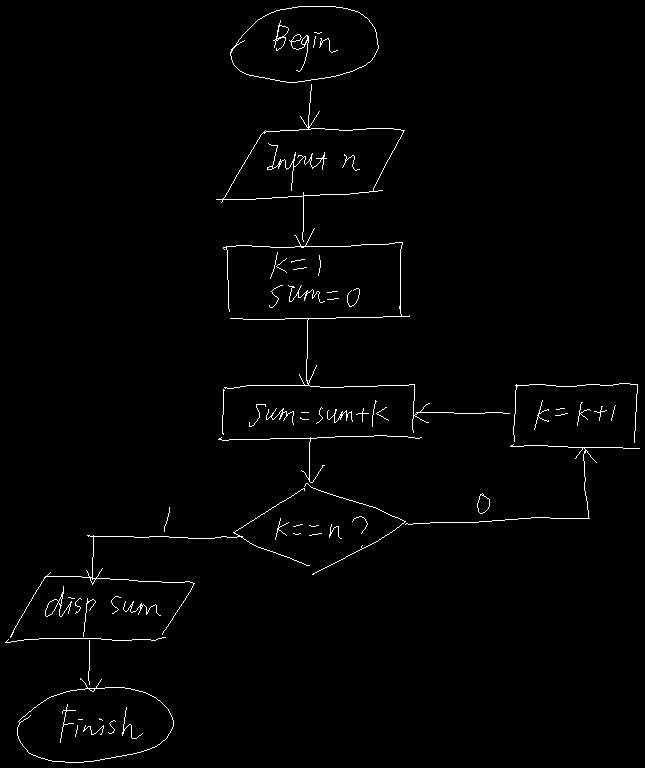arrow: (405, 447, 596, 524), (86, 535, 242, 584), (414, 403, 509, 422), (299, 319, 316, 385), (294, 192, 314, 247), (80, 640, 101, 691), (301, 437, 324, 482), (300, 84, 319, 128)
data: (216, 128, 404, 202), (5, 572, 194, 642)
decision: (233, 483, 405, 574)
process: (223, 242, 409, 319), (218, 384, 421, 440), (510, 383, 639, 448)
terminator: (17, 687, 173, 762), (230, 6, 378, 82)
text: (45, 586, 160, 636), (269, 252, 359, 307), (267, 143, 359, 190), (249, 400, 388, 426), (273, 20, 337, 71), (60, 704, 142, 742), (275, 516, 367, 547), (534, 400, 615, 429), (477, 493, 489, 513), (164, 507, 169, 531)
